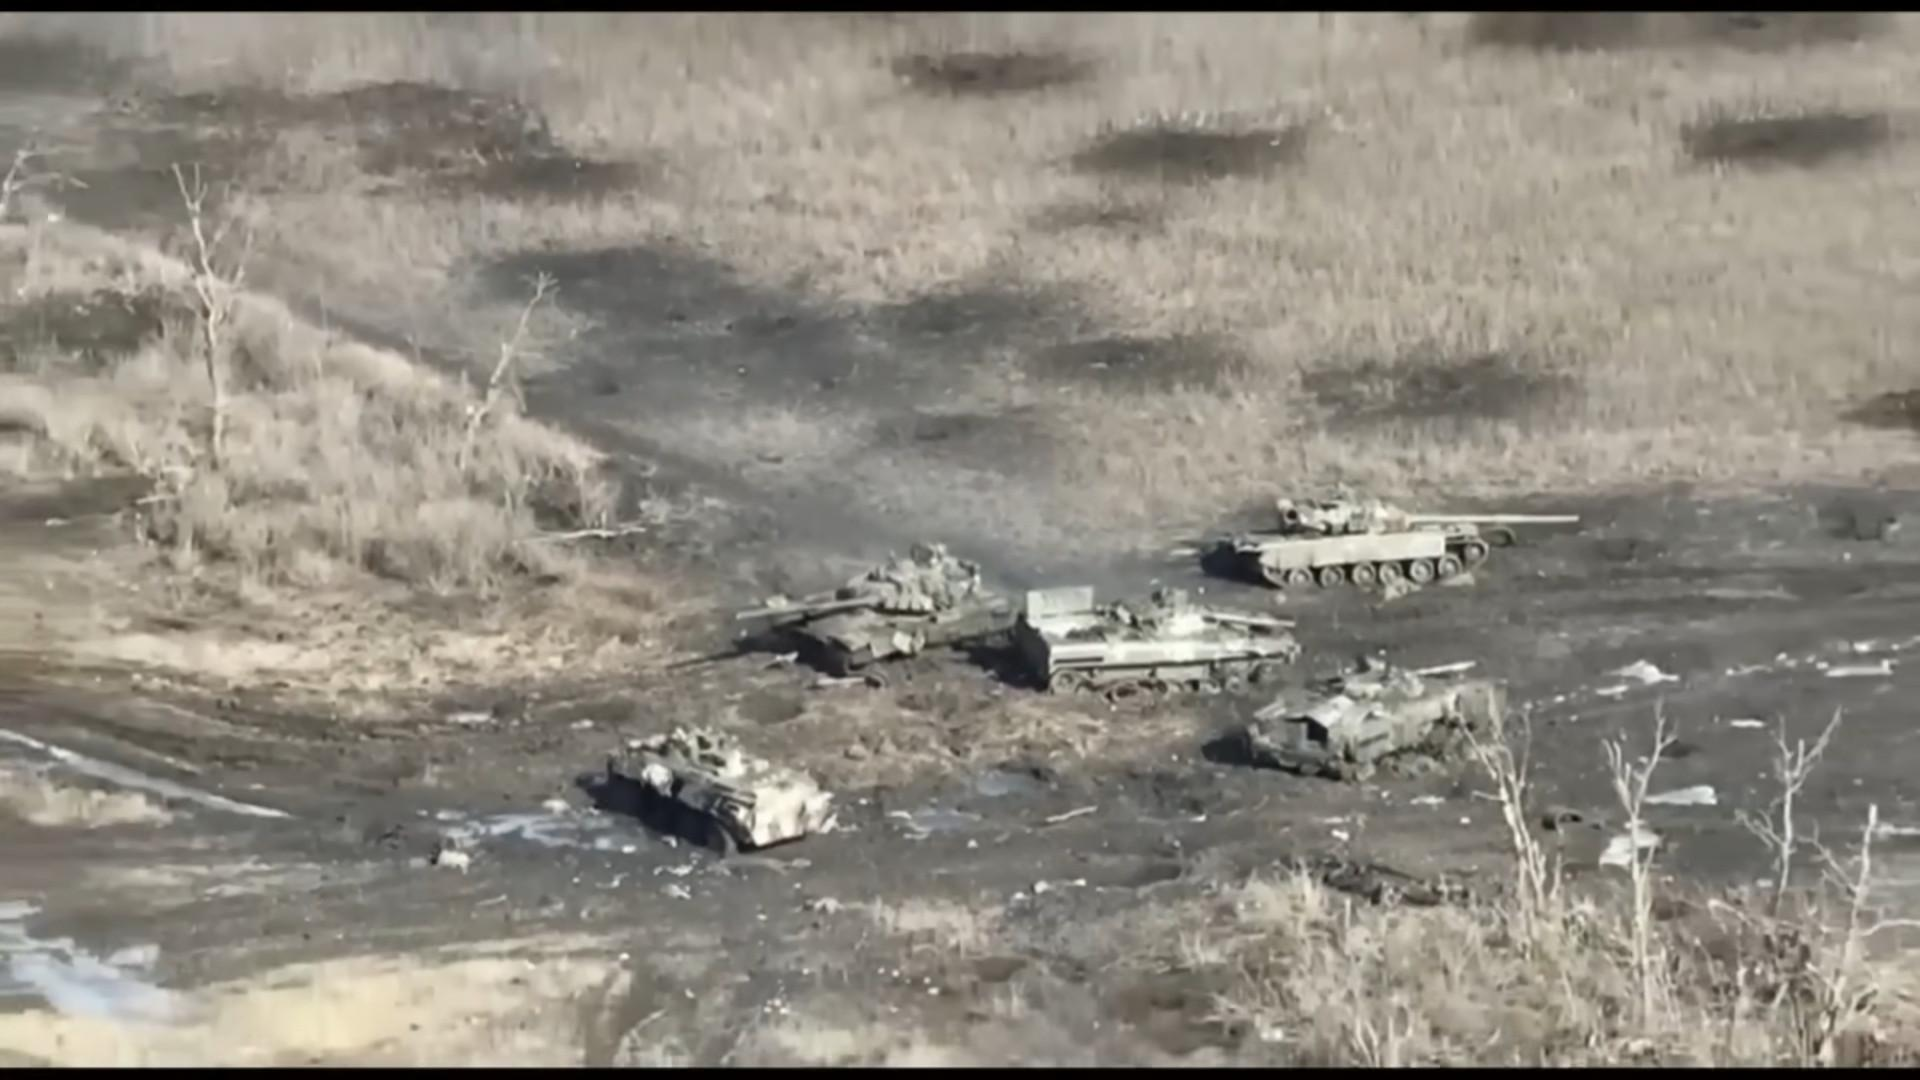tank: (735, 541, 1017, 678), (1201, 485, 1580, 587), (1242, 655, 1507, 782), (1011, 585, 1300, 698)
